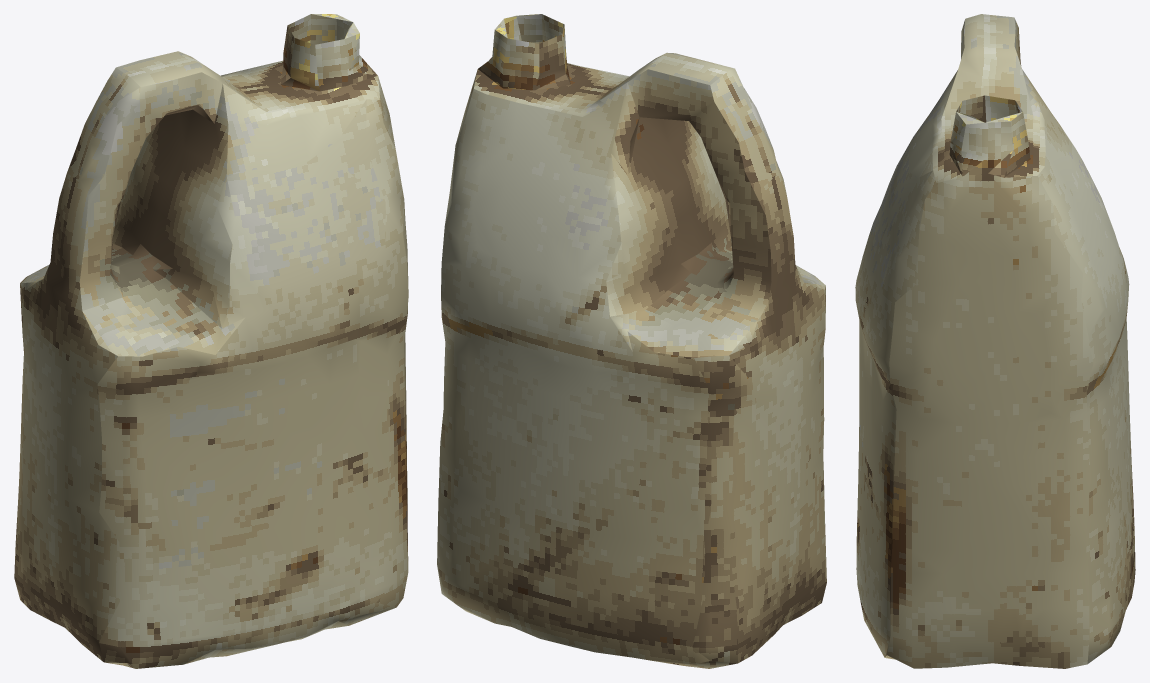
File: plastic_bottle_gallon.glb
The picture shows the model from 3 angles, left to right: view 1: azimuth 30°, elevation 25°; view 2: azimuth 150°, elevation 25°; view 3: azimuth 270°, elevation 25°; orthographic projection.
Visible parts, largest first — view 1: body; view 2: body; view 3: body.
Part boxes in pixels (x1,y1,x2,y2): body: [14, 14, 408, 668]; body: [437, 14, 826, 668]; body: [855, 14, 1135, 668].
Size of the model in its own units: 0.1665 by 0.2745 by 0.1265.
Materials: 1 (1 with a texture image).
